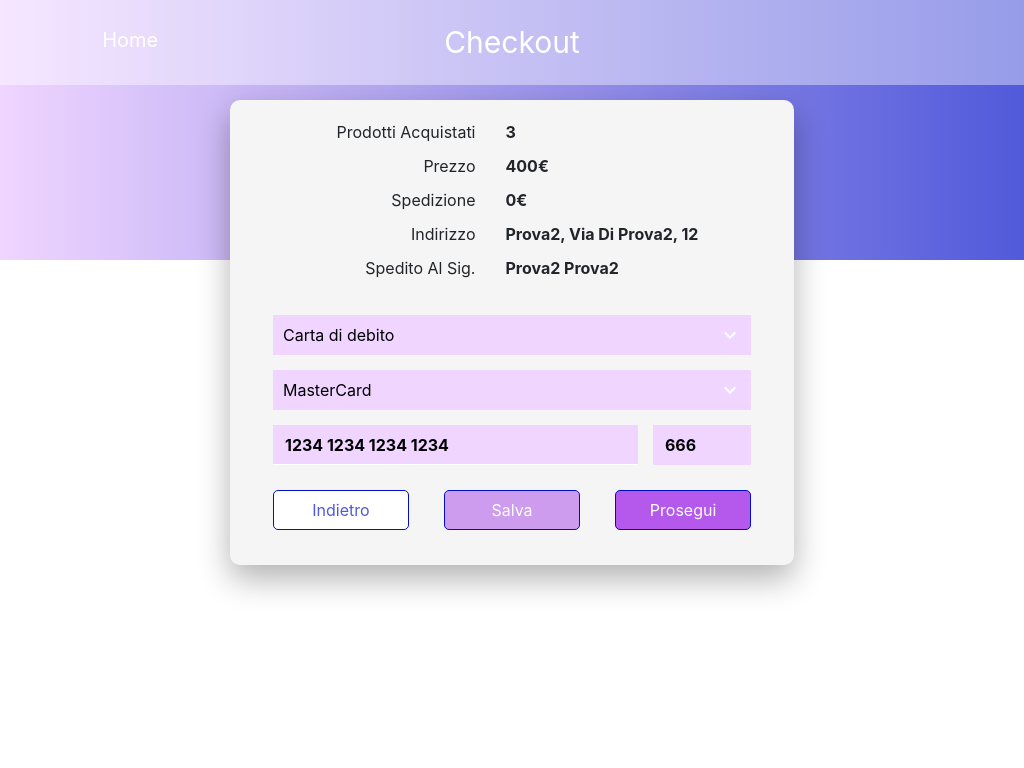
Test: Shipping › Sign up with payment saved
Expected: the text with class "div10" reads "prova2 prova2", [506,258,619,278]
Expected: the dropdown with id "method" shows "Carta di debito", [273,315,751,355]
Click the button with id "submit".
click(683, 510)  # box [615,490,751,530]
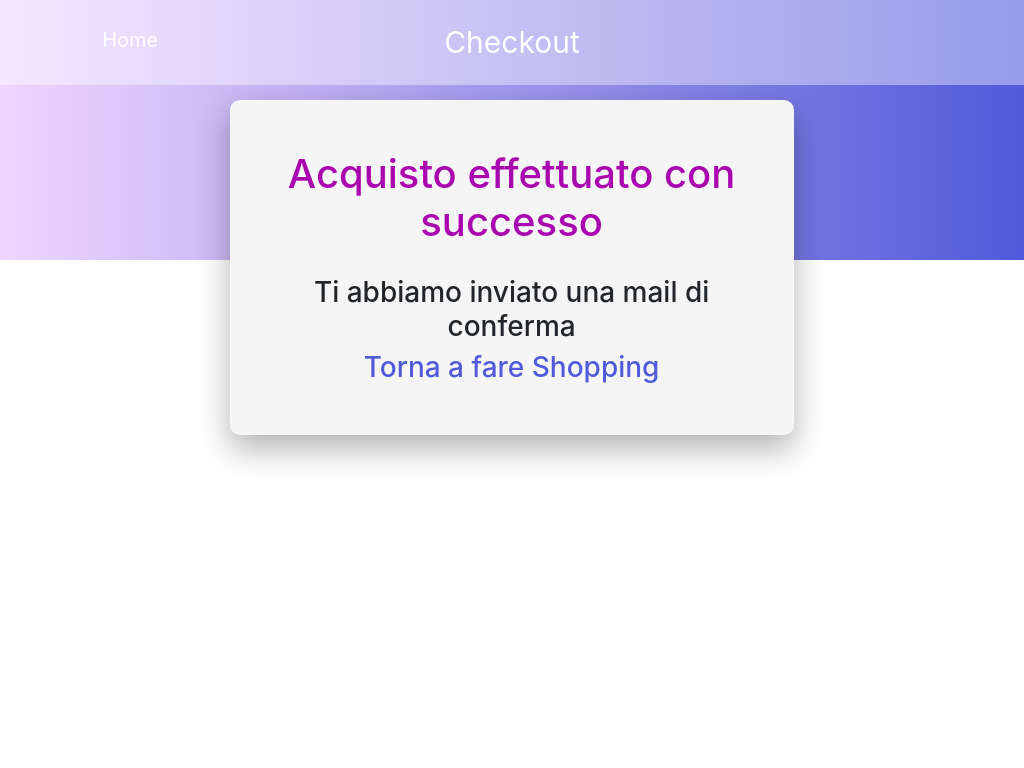
Expected: the text with class "title" reads "Checkout", [0,0,1023,85]
Now the heading "Acquisto effettuato con successo" is shown, box [260,150,764,246]
